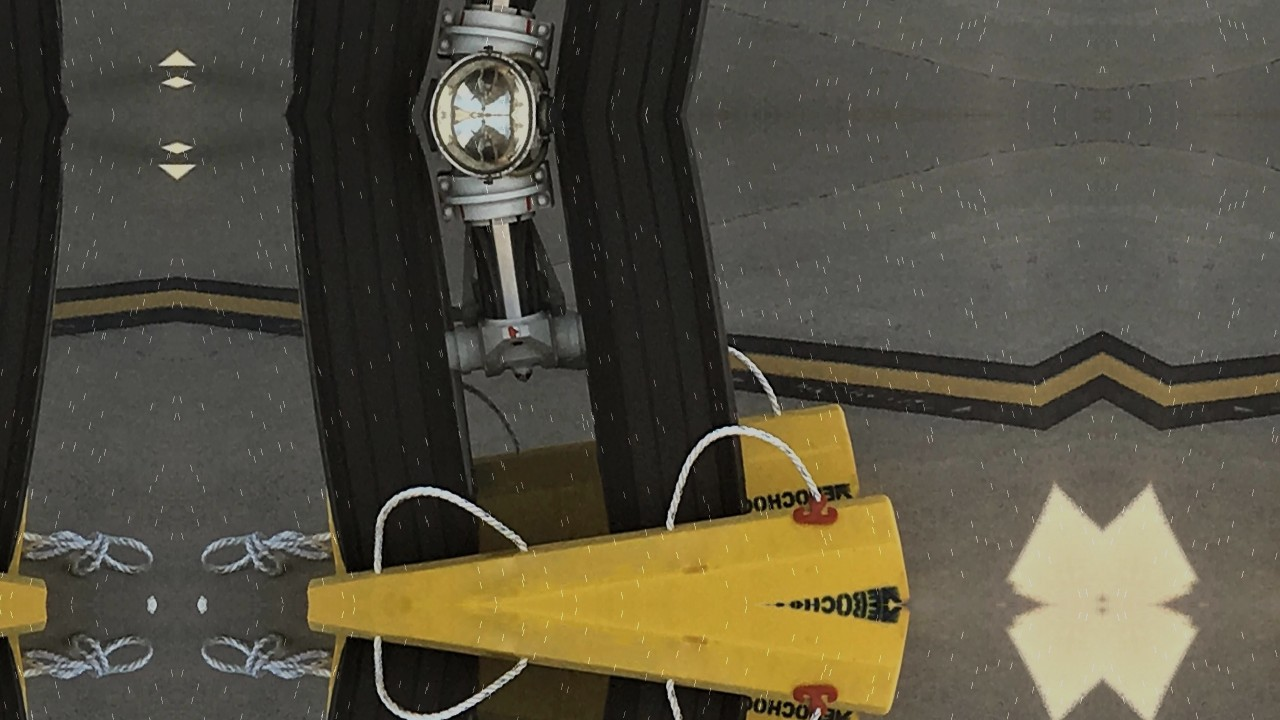chock: (319, 394, 862, 590), (300, 475, 912, 605), (300, 605, 912, 720), (319, 620, 862, 720), (0, 475, 54, 605), (0, 394, 35, 590), (0, 605, 54, 720)
wheel: (266, 118, 501, 578), (534, 115, 761, 537), (0, 118, 88, 578), (266, 0, 501, 112), (534, 0, 761, 115), (266, 632, 501, 720), (534, 673, 761, 720), (0, 0, 88, 112), (0, 632, 88, 720)
